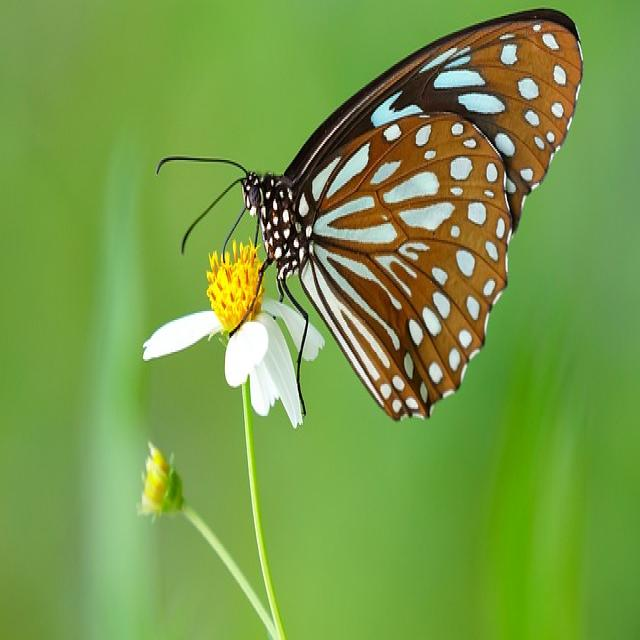butterfly: (154, 5, 583, 423)
